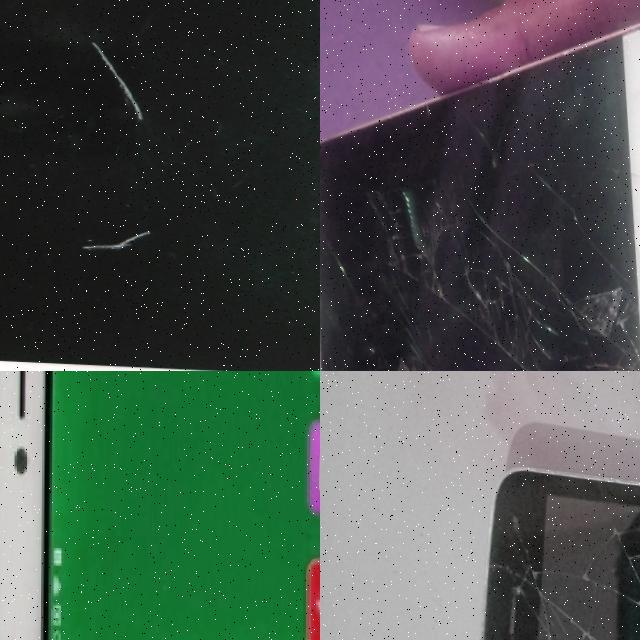scratch: (93, 38, 147, 120), (82, 226, 154, 246)
screen crack: (369, 184, 640, 371), (479, 467, 640, 640), (320, 119, 355, 371)
